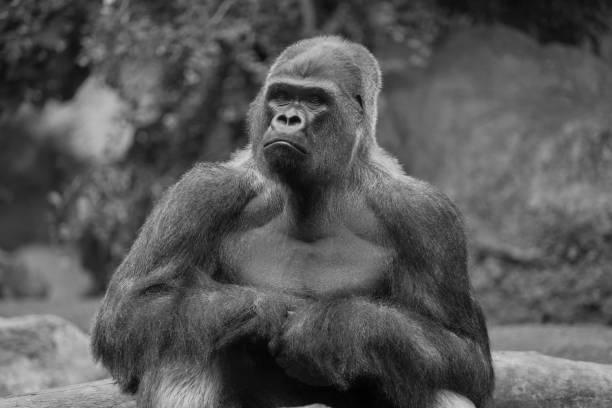gorille_Autres: (100, 17, 506, 408)
